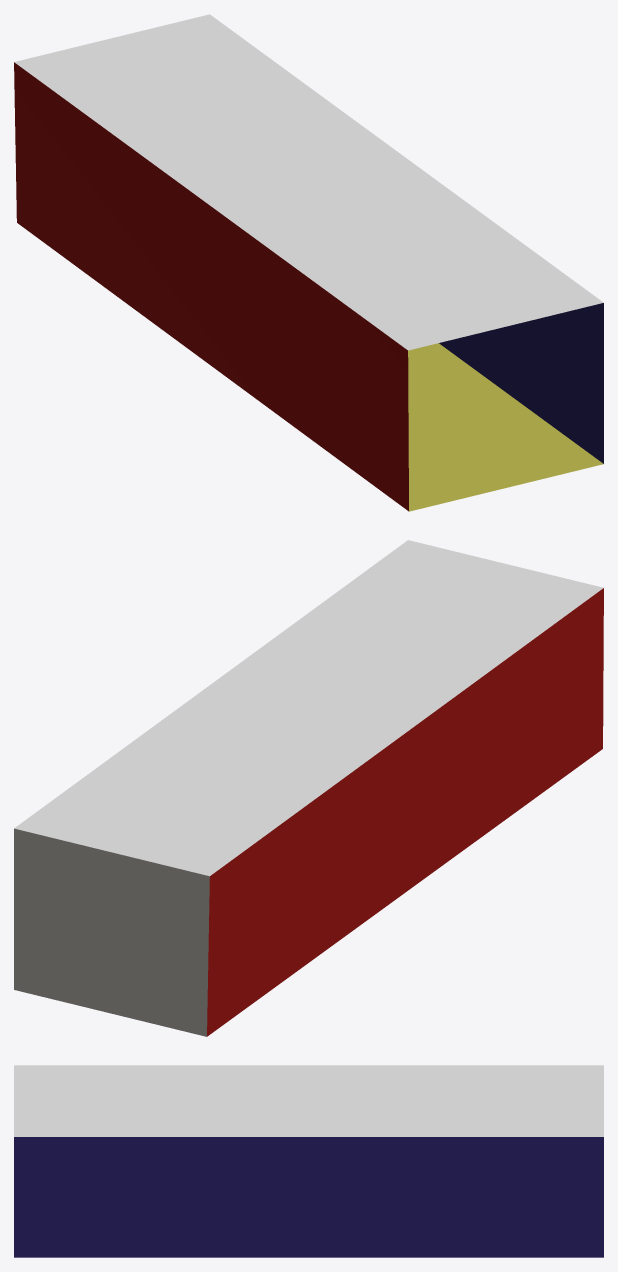
3 renders of one model, top to bottom at view 1: azimuth 30°, elevation 25°; view 2: azimuth 150°, elevation 25°; view 3: azimuth 270°, elevation 25°, orthographic. The views are drawn at different scales.
Visible parts, largest first — view 1: ceiling, leftWall, floor, rightWall; view 2: ceiling, leftWall, backWall; view 3: rightWall, ceiling.
Boxes of the visible parts, x1,y1,x2,y2 form: ceiling: [14, 14, 603, 350]; leftWall: [14, 62, 408, 511]; floor: [408, 343, 603, 511]; rightWall: [439, 303, 603, 463]; ceiling: [14, 540, 603, 876]; leftWall: [207, 588, 603, 1036]; backWall: [14, 828, 209, 1036]; rightWall: [14, 1137, 603, 1257]; ceiling: [14, 1065, 603, 1136].
Size of the model in its own units: 2.02 by 1.59 by 7.04.
